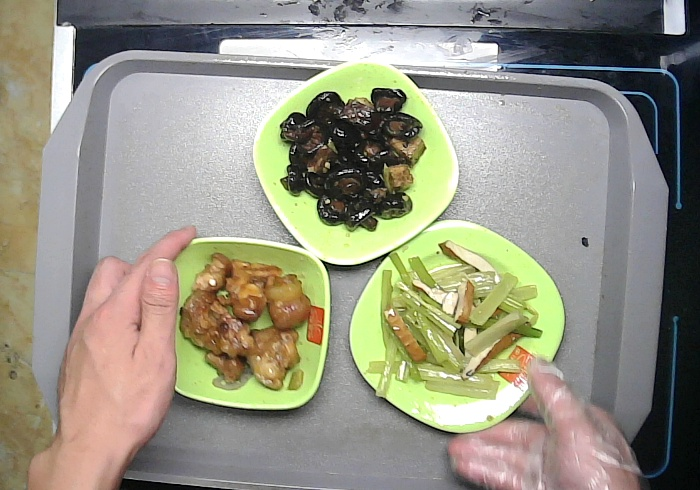SHKJ-Lv_Se_Cai_Die: (251, 59, 460, 266)
SHKJ-Lv_Se_Si_Fang_Cai_Die: (349, 218, 566, 433)
SHKJ-Lv_Se_Xiao_Fang_Die: (164, 236, 331, 411)
